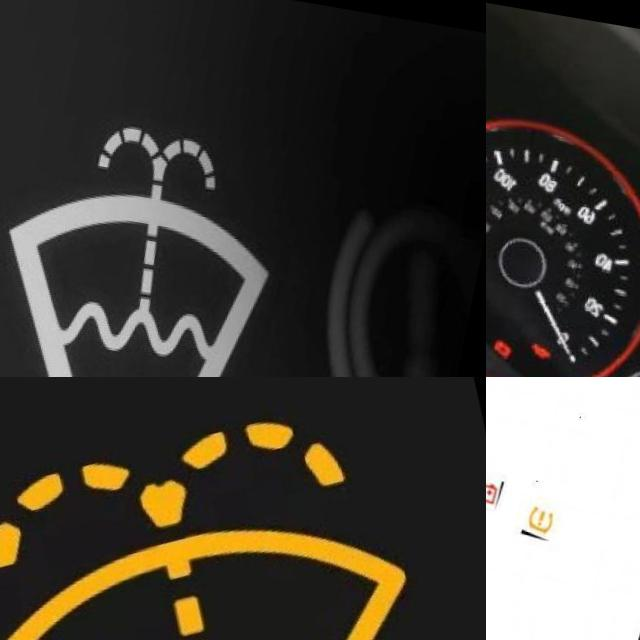Washer Fluid: (0, 377, 437, 640), (0, 104, 300, 377)
